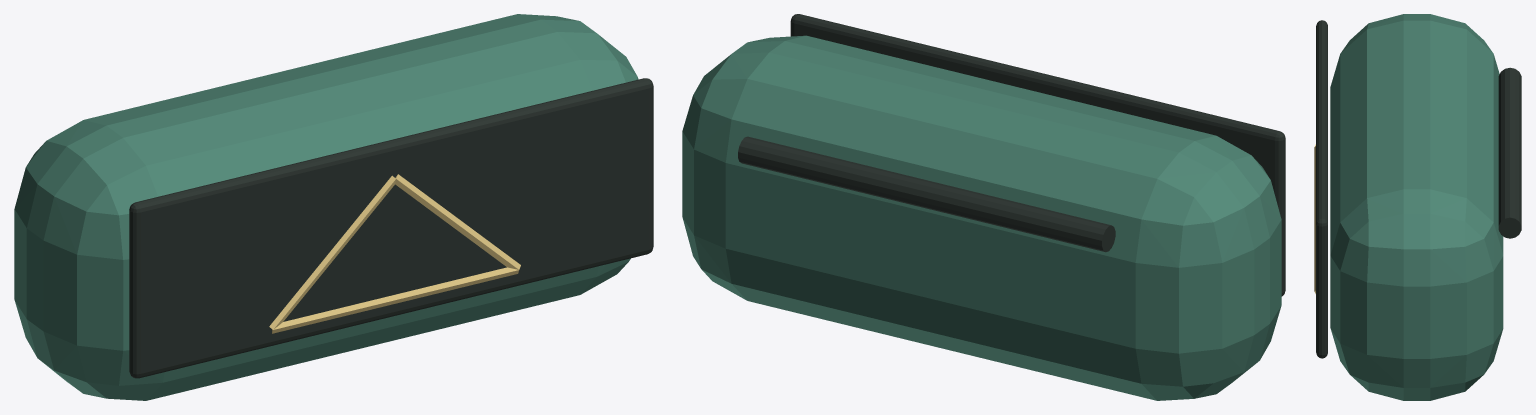
Rendered from case-triangle-v1-6ORsQsPW.glb.
3 views of the same model, side by side, from view 1: azimuth 30°, elevation 25°; view 2: azimuth 150°, elevation 25°; view 3: azimuth 270°, elevation 25° (orthographic). The views are drawn at different scales.
Visible parts, largest first — view 1: Case lid seam, Protective case shell, Triangle stitch 3, Triangle stitch 1, Triangle stitch 2; view 2: Protective case shell, Case lid seam, Hinge; view 3: Protective case shell, Case lid seam, Hinge, Triangle stitch 2.
Part boxes in pixels (<box>): Case lid seam: <box>129,78,653,378</box>; Protective case shell: <box>14,14,638,400</box>; Triangle stitch 3: <box>272,267,518,333</box>; Triangle stitch 1: <box>269,175,395,329</box>; Triangle stitch 2: <box>395,174,520,269</box>; Protective case shell: <box>682,35,1281,400</box>; Case lid seam: <box>790,14,1285,296</box>; Hinge: <box>738,136,1115,252</box>; Protective case shell: <box>1330,14,1503,400</box>; Case lid seam: <box>1316,20,1327,358</box>; Hinge: <box>1498,67,1521,238</box>; Triangle stitch 2: <box>1314,146,1315,291</box>.
Bounding box in the file's own units: 1.64 × 0.68 × 0.6221.
